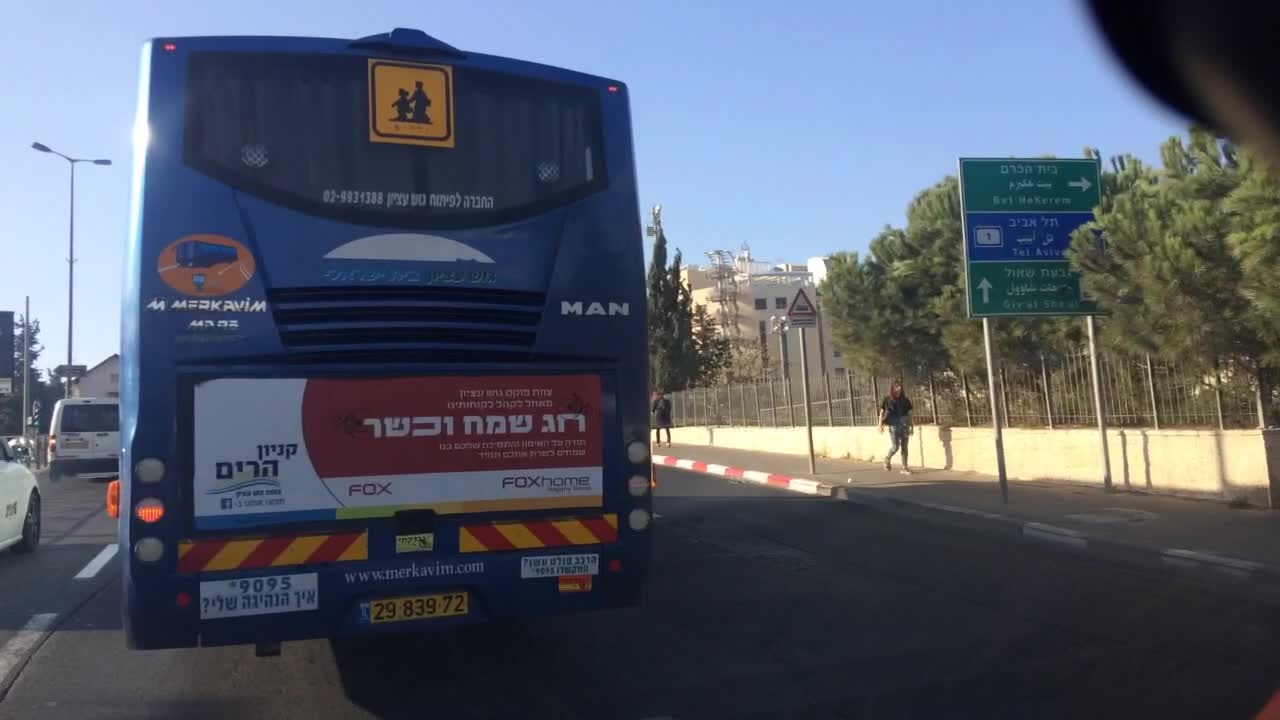bus: (104, 26, 656, 658)
car: (44, 397, 118, 481), (0, 432, 41, 560), (13, 443, 30, 465)
person: (875, 381, 915, 476), (653, 390, 672, 450)
traffic sign: (957, 158, 1116, 315), (0, 310, 15, 397), (786, 283, 819, 318), (48, 362, 88, 378)
